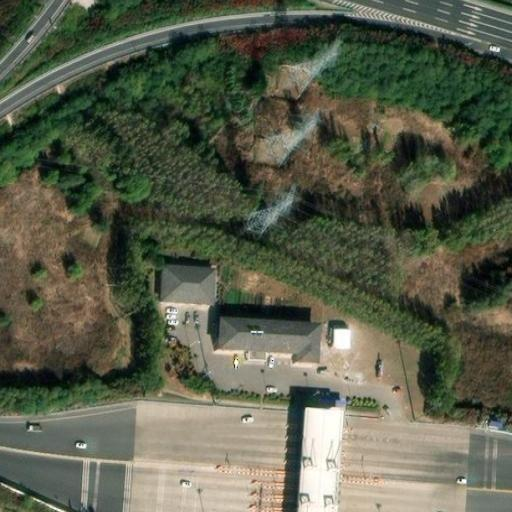building: (281, 397, 344, 512), (212, 312, 323, 365), (157, 263, 216, 303), (329, 325, 351, 349)
